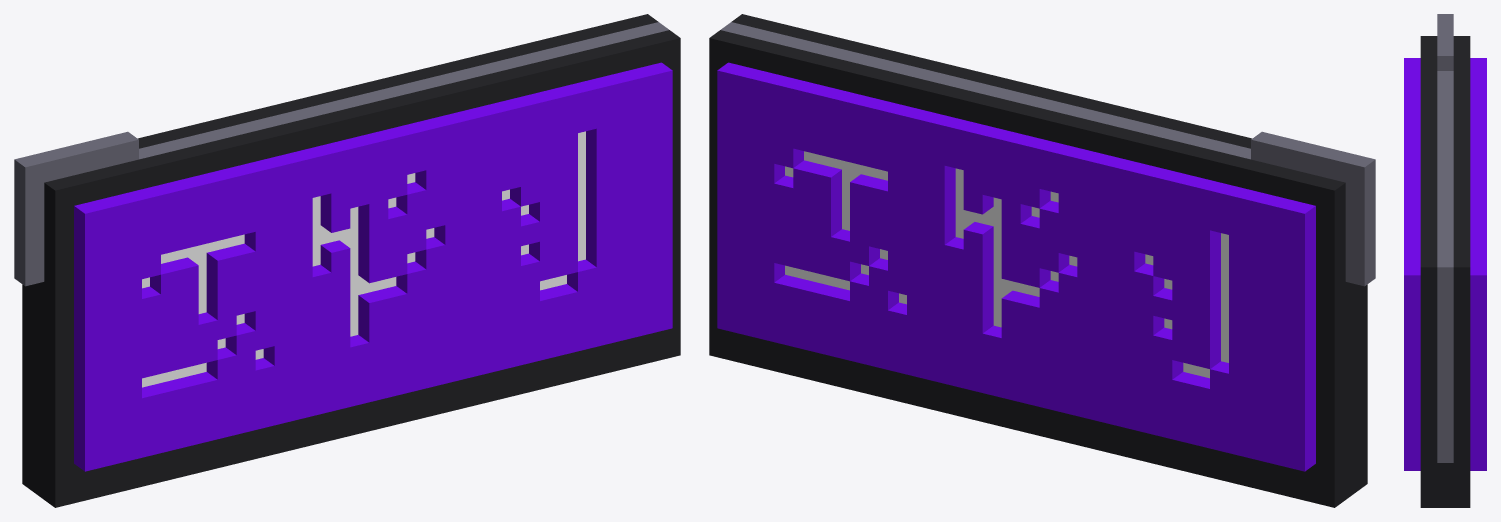
The model's file is Signborad_011.obj.
3 views of the same model, side by side, from view 1: azimuth 30°, elevation 25°; view 2: azimuth 150°, elevation 25°; view 3: azimuth 270°, elevation 25° (orthographic). The views are drawn at different scales.
Size of the model in its own units: 3.4 by 1.7 by 0.5.
1 material, 1 textured.
